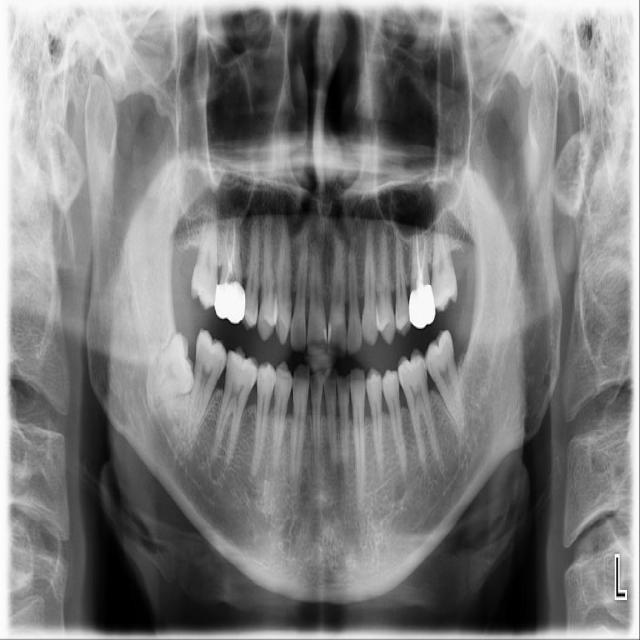52: (214, 280, 246, 324), (408, 284, 436, 329), (306, 310, 328, 356), (326, 311, 347, 358)
73: (218, 201, 247, 285), (409, 214, 431, 294), (612, 566, 622, 578)
BioHorizons Implant: (423, 193, 460, 312)
Blue Sky Bio Implant: (420, 328, 469, 441)
Caries: (190, 186, 225, 310)
Implant: (184, 328, 230, 451)
Keystone Dental Implant: (132, 330, 203, 411)
